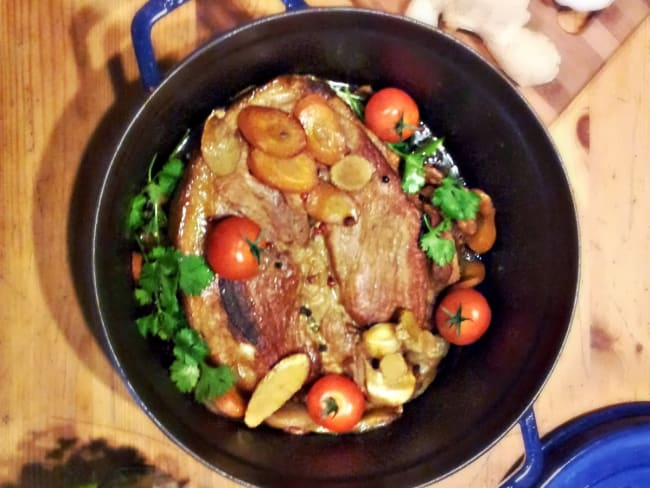ail: (378, 333, 404, 410)
percil: (156, 172, 189, 372)
plantain: (241, 103, 353, 197)
rouelle de porc: (278, 246, 416, 306)
tomate cerise: (314, 384, 363, 435)
